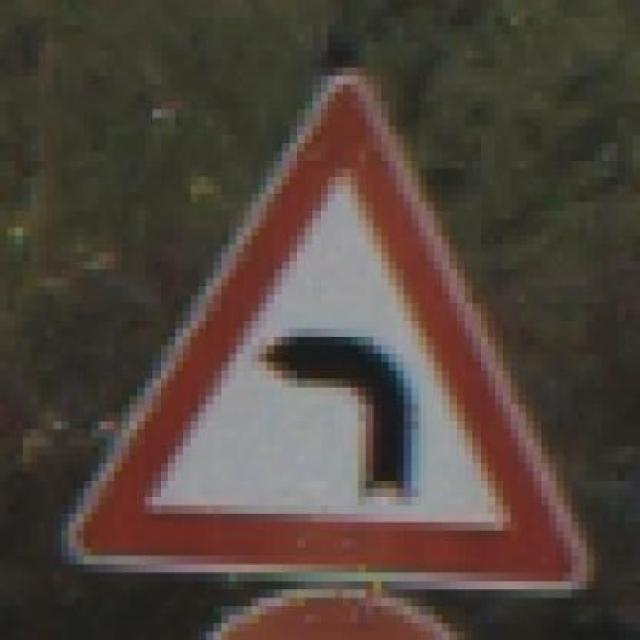Dangerous Left Curve Ahead: (61, 59, 602, 598)
